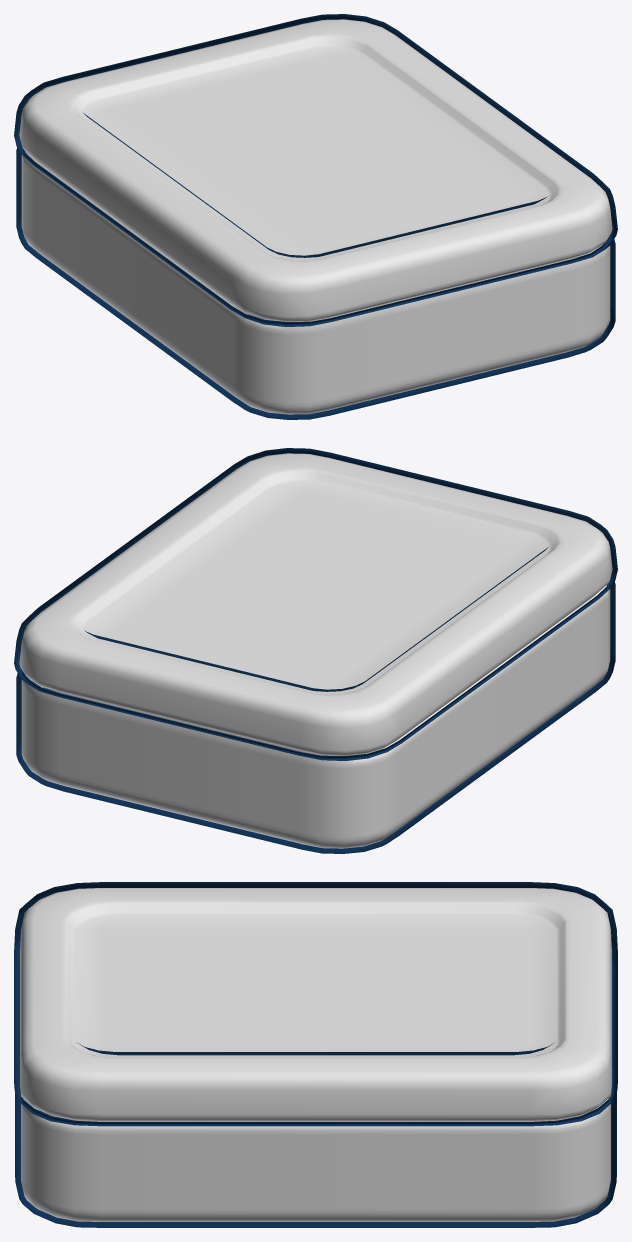
The model's file is Box (backup).fbx.
3 views of the same model, one above another, from view 1: azimuth 30°, elevation 25°; view 2: azimuth 150°, elevation 25°; view 3: azimuth 270°, elevation 25° (orthographic). The views are drawn at different scales.
Visible parts, largest first — view 1: Box, Box.001; view 2: Box, Box.001; view 3: Box, Box.001.
Part boxes in pixels (box(x1,y1,x2,y2)): Box: box(19, 19, 612, 414); Box.001: box(14, 14, 617, 419); Box: box(19, 453, 612, 848); Box.001: box(14, 448, 617, 853); Box: box(20, 888, 611, 1221); Box.001: box(14, 882, 617, 1227).
Size of the model in its own units: 0.7987 by 0.3006 by 1.02.
